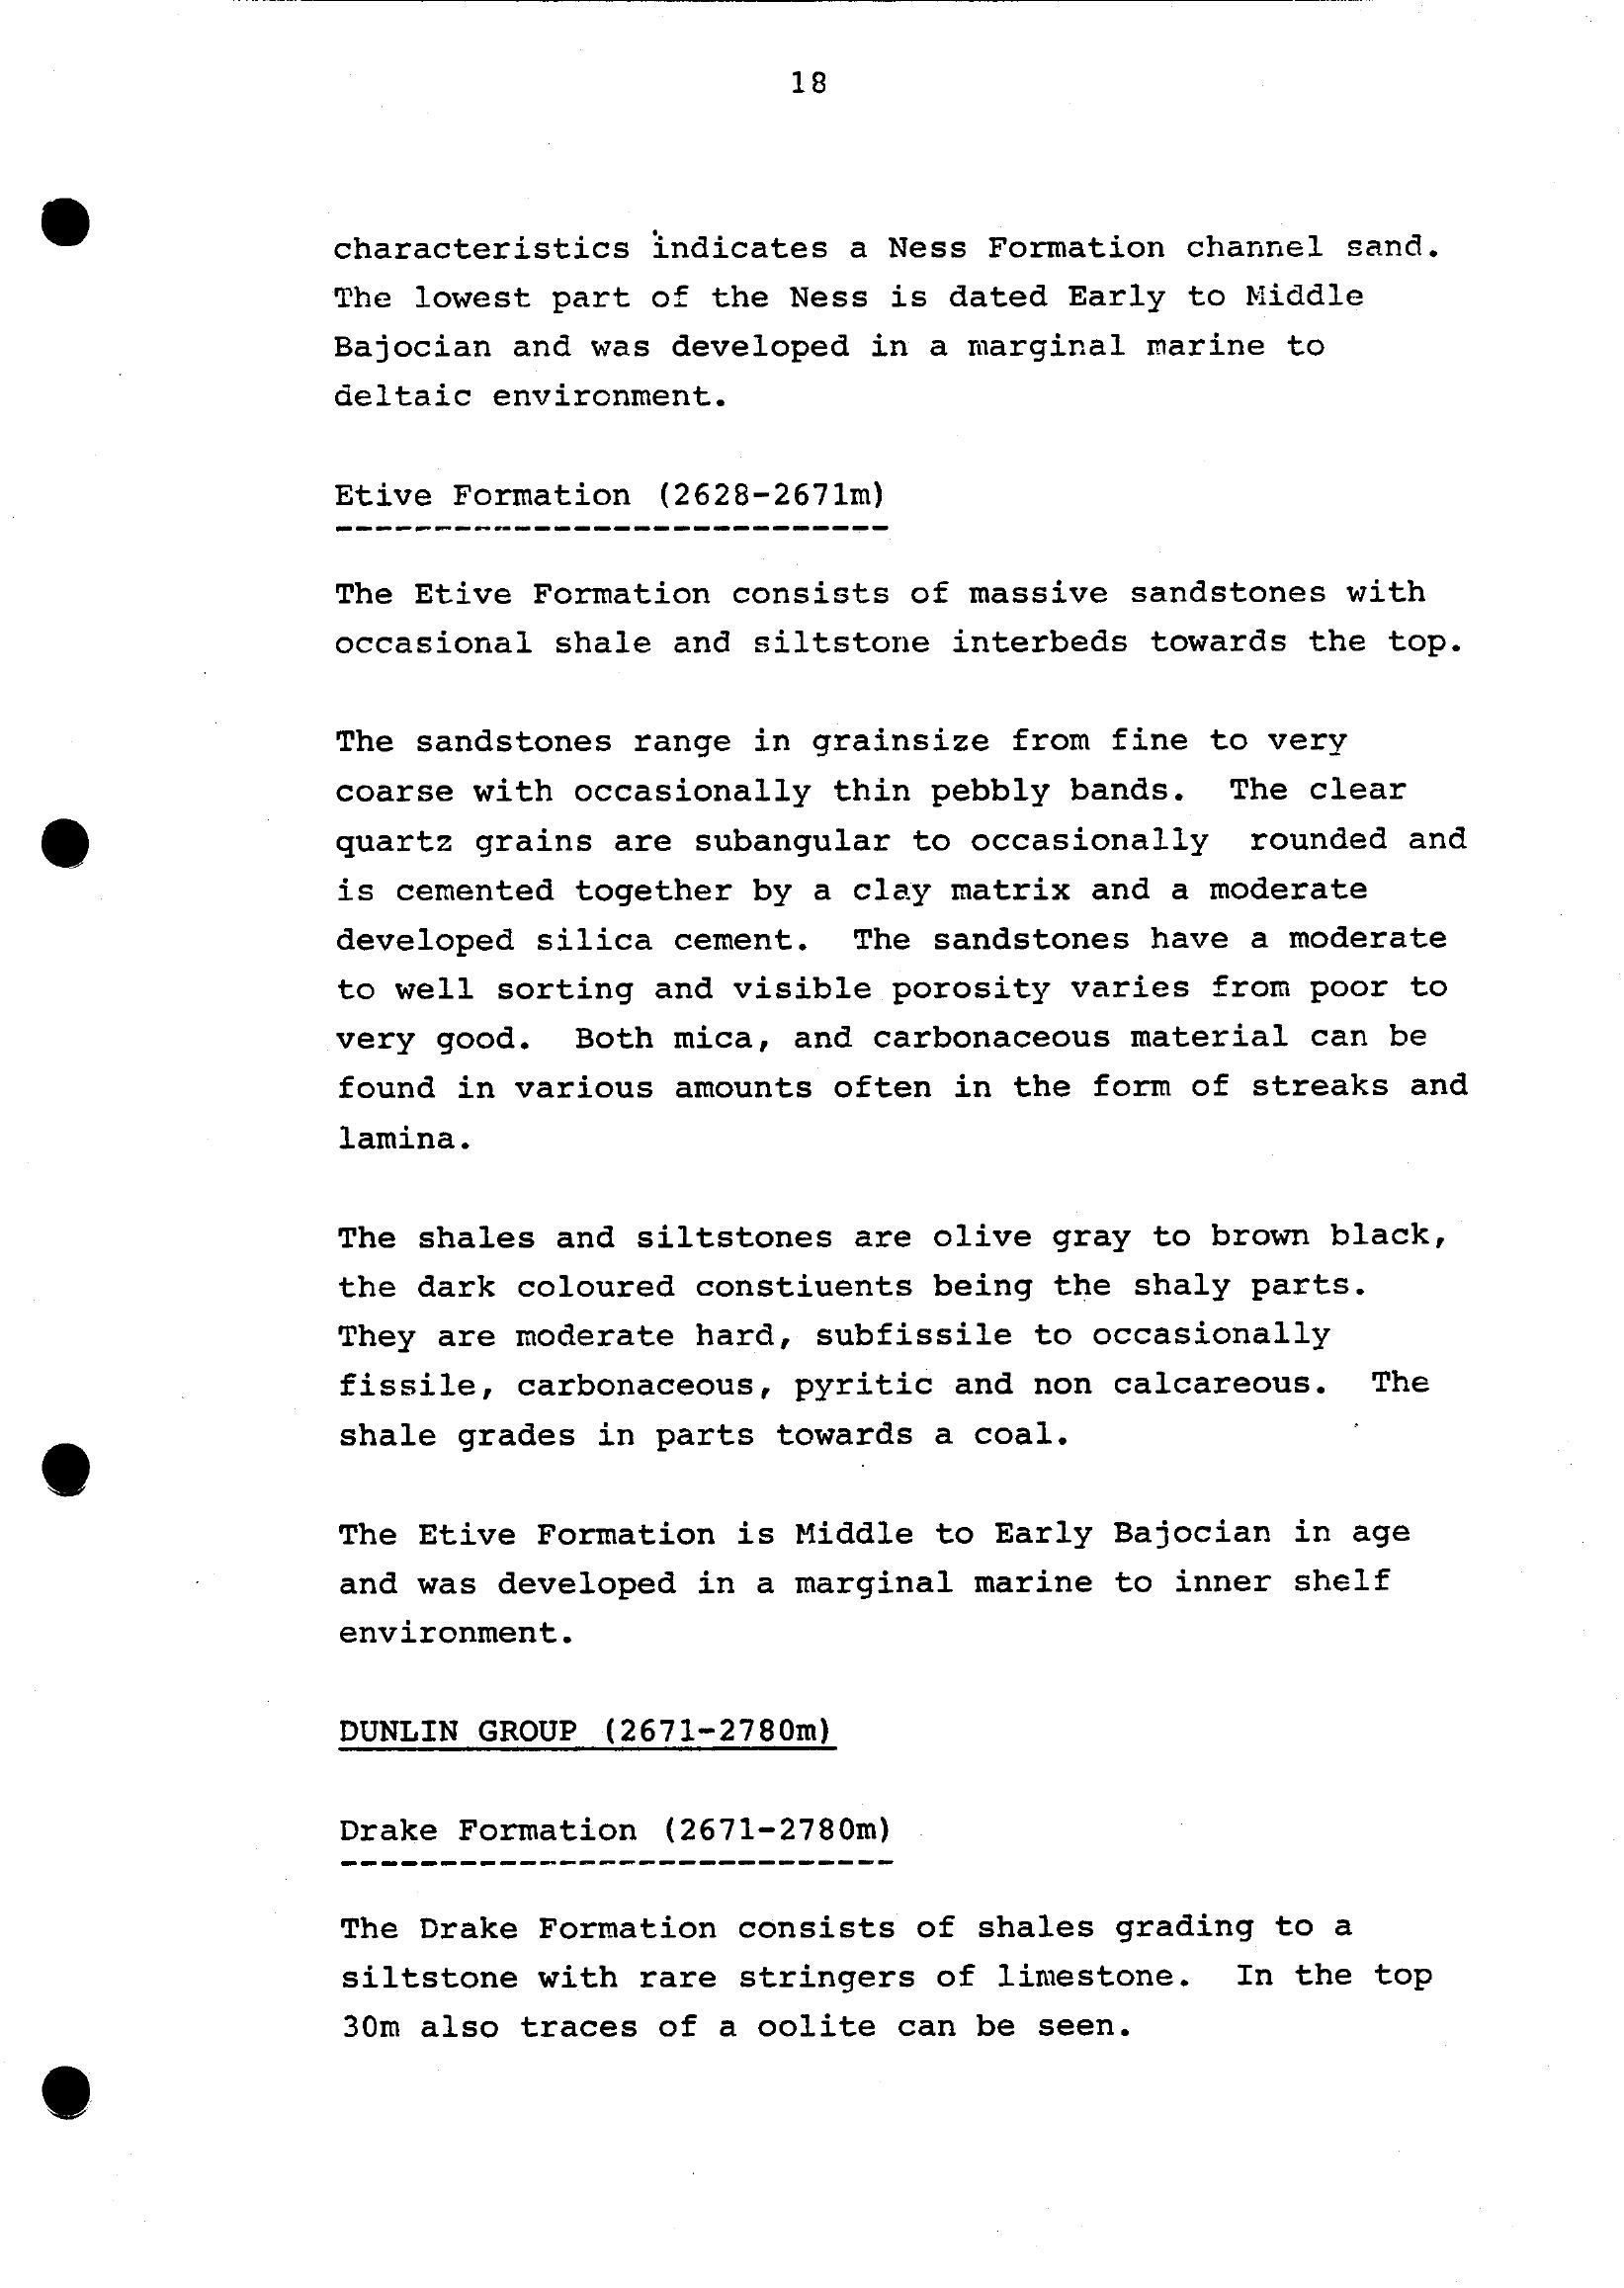text: (290, 177, 1536, 2123)
